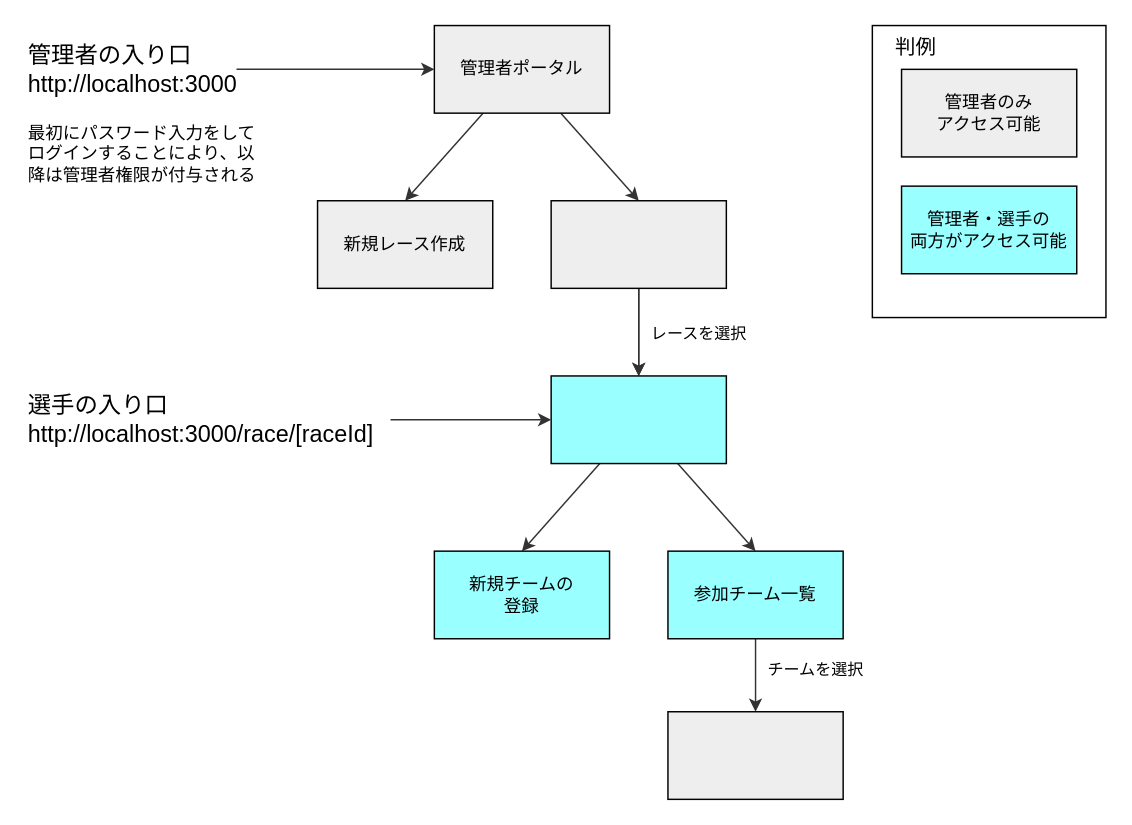
The diagram is 1132 pixels wide and 825 high, and some of its shapes have lost their labels. Here are the shapes that lost their labels. From the top down, the centre of each, then its label:
the point at 638,243: レース一覧
the point at 638,419: 特定のレース向けの ポータル
the point at 754,754: チーム情報を編集
